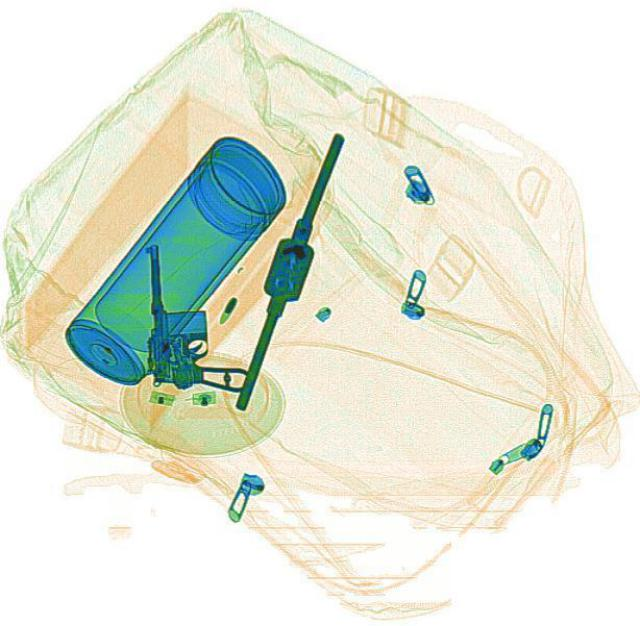Gun: (141, 241, 249, 391)
